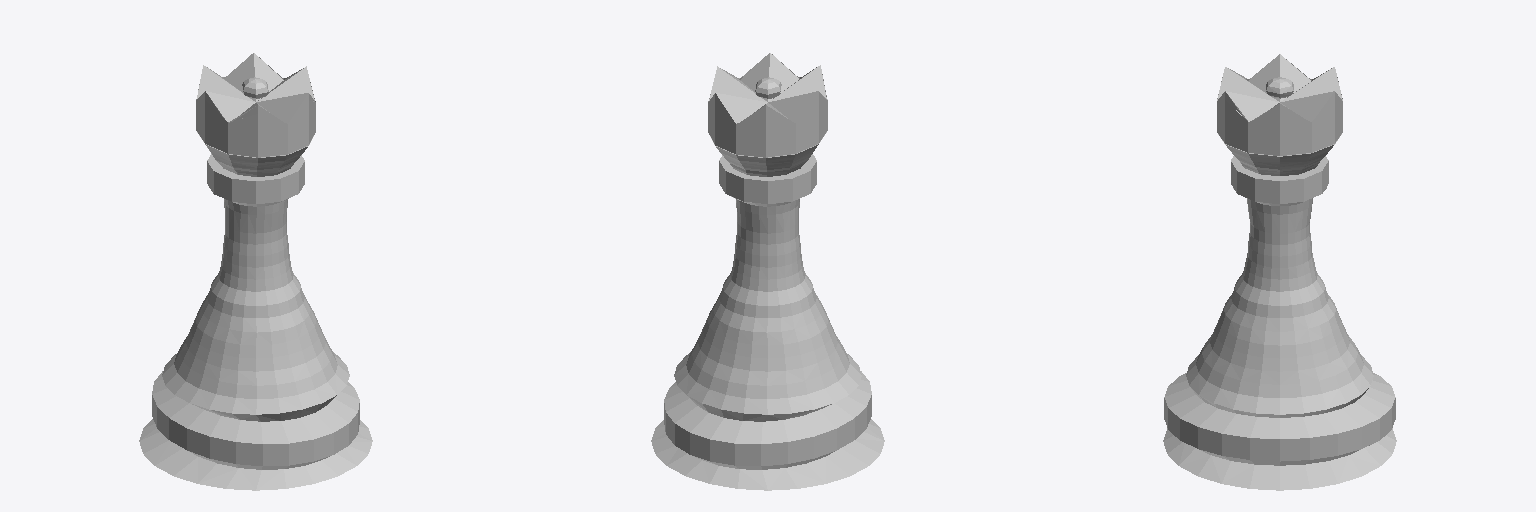
File: queen.obj
The picture shows the model from 3 angles: view 1: azimuth 30°, elevation 25°; view 2: azimuth 150°, elevation 25°; view 3: azimuth 270°, elevation 25°; orthographic projection.
Bounding box in the file's own units: 4 × 7 × 4.